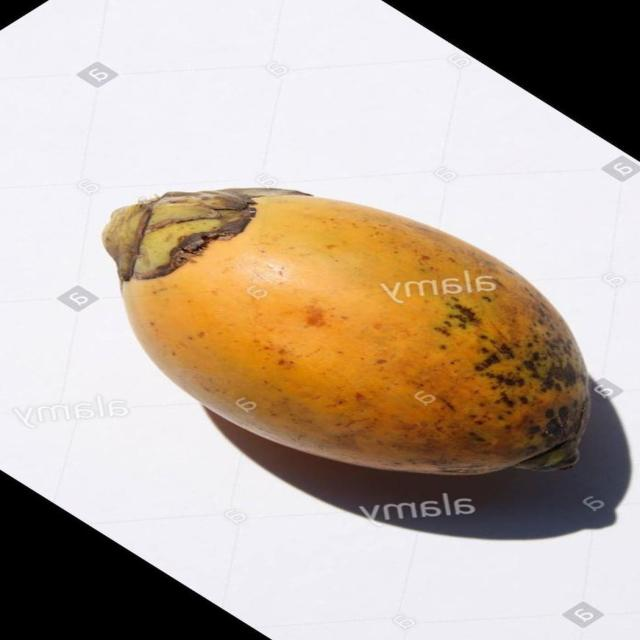good: (102, 188, 594, 478)
